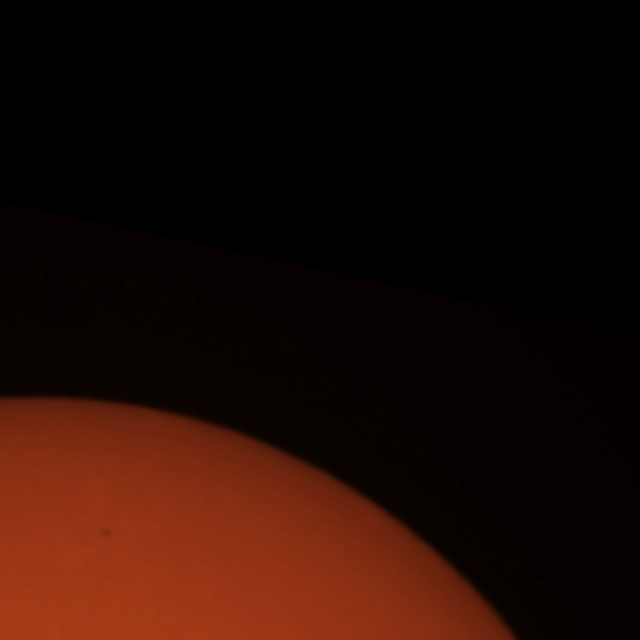sunspot: (97, 524, 113, 542)
